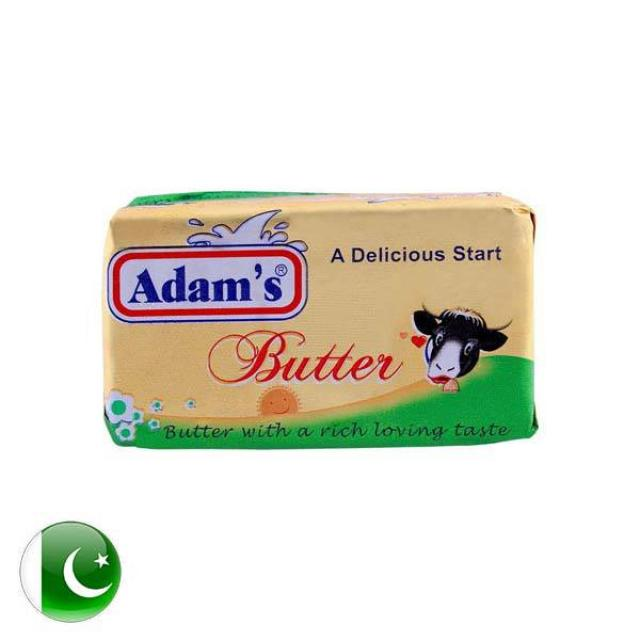butter: (101, 189, 538, 449)
